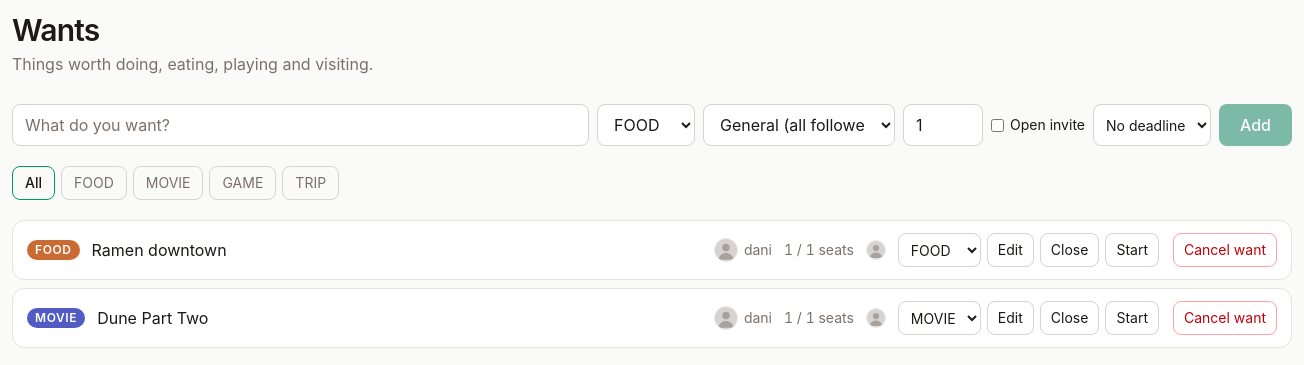
Test case: Wants › disables the capacity field while Open invite is ticked, and enables it again when unticked
Expected: the text "Ramen downtown" is shown, [92,240,227,260]
What coordinates should you click on to do the following:
click the checkbox labelled "Open invite"
I would click on:
 (998, 125)
Its box is [991,118,1004,132].
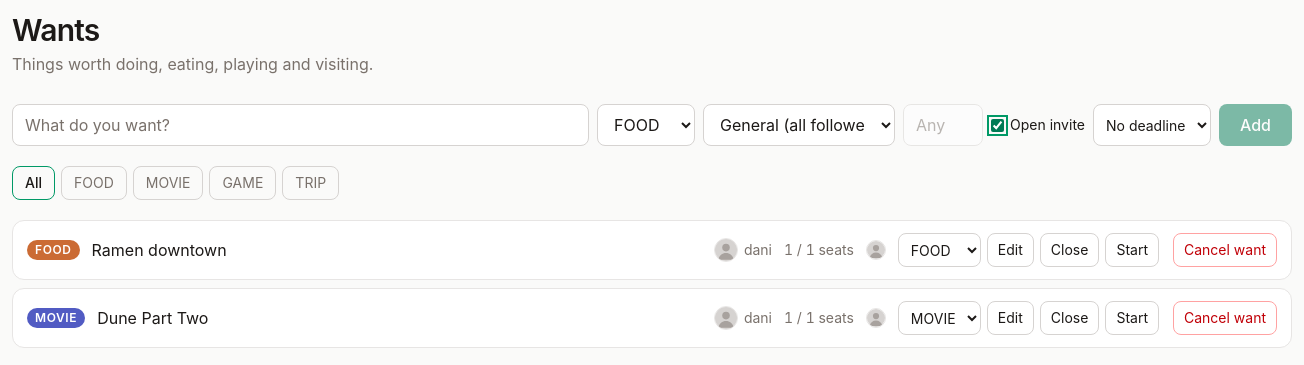
Now the number field named "Capacity" is disabled, box [903,104,983,146]
What coordinates should you click on to do the following:
click the checkbox labelled "Open invite"
I would click on:
 (998, 125)
Its box is [991,118,1004,132].
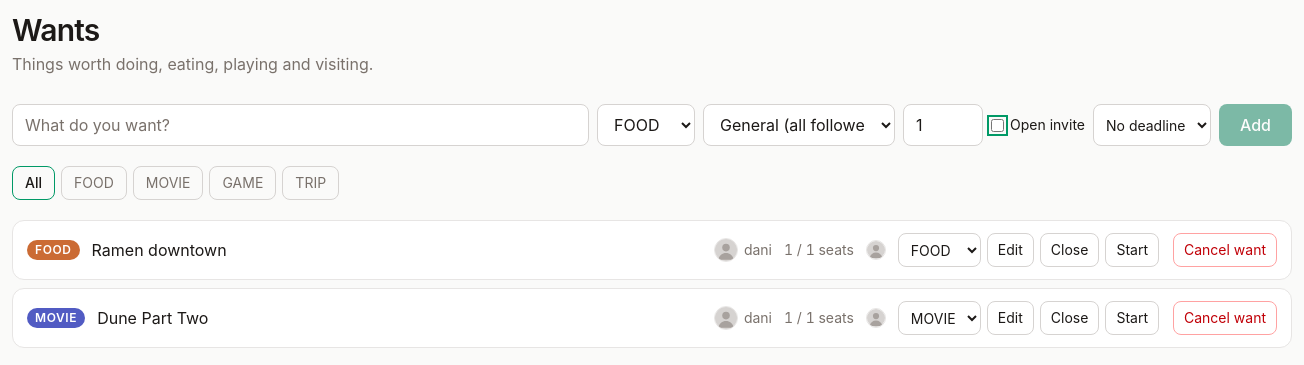
Now the number field named "Capacity" is enabled, box [903,104,983,146]
